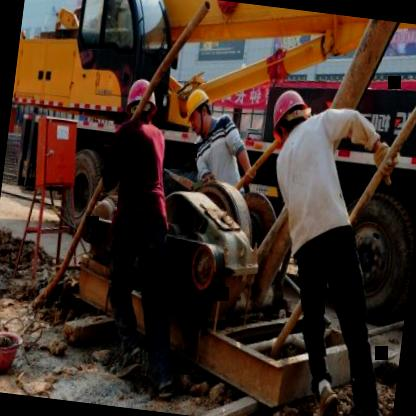helmet: (268, 86, 314, 148), (180, 80, 216, 138), (124, 76, 154, 125)
